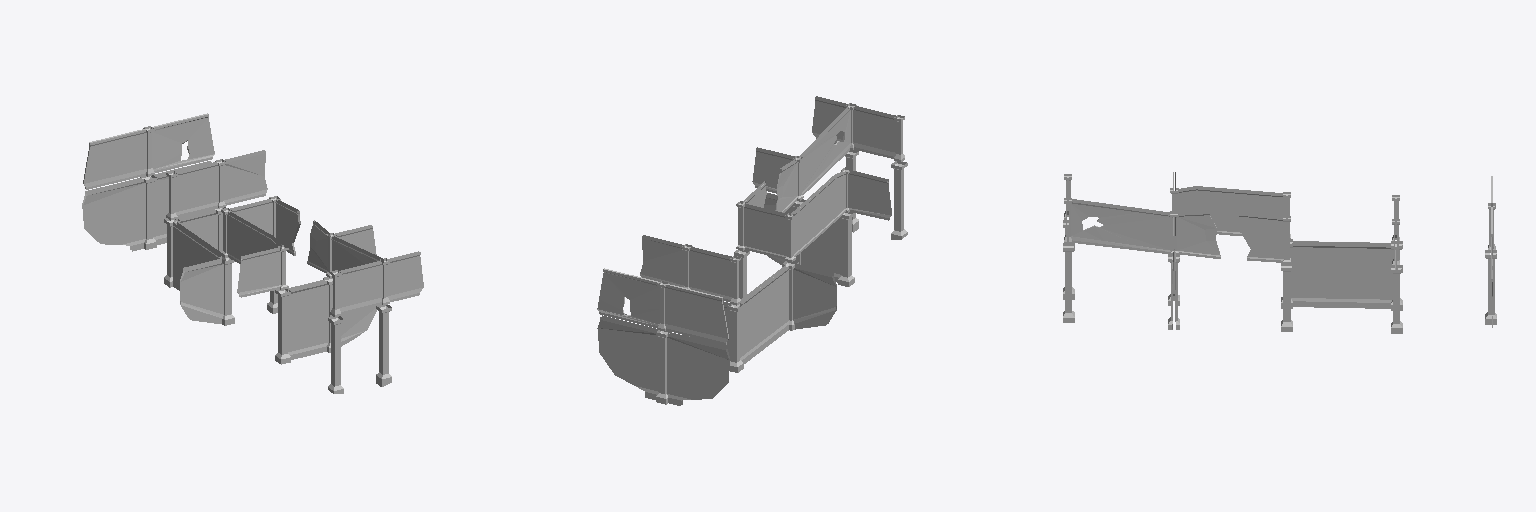
Rendered from Walls.obj.
The picture shows the model from 3 angles: view 1: azimuth 30°, elevation 25°; view 2: azimuth 150°, elevation 25°; view 3: azimuth 270°, elevation 25°; orthographic projection.
Parts seen in each view (by area): view 1: Walls; view 2: Walls; view 3: Walls.
Part boxes in pixels (left/top/right/bottom): Walls: left=82, top=113, right=423, bottom=393; Walls: left=597, top=96, right=907, bottom=405; Walls: left=1063, top=172, right=1496, bottom=333.
Bounding box in the file's own units: 951 × 851 × 2480.